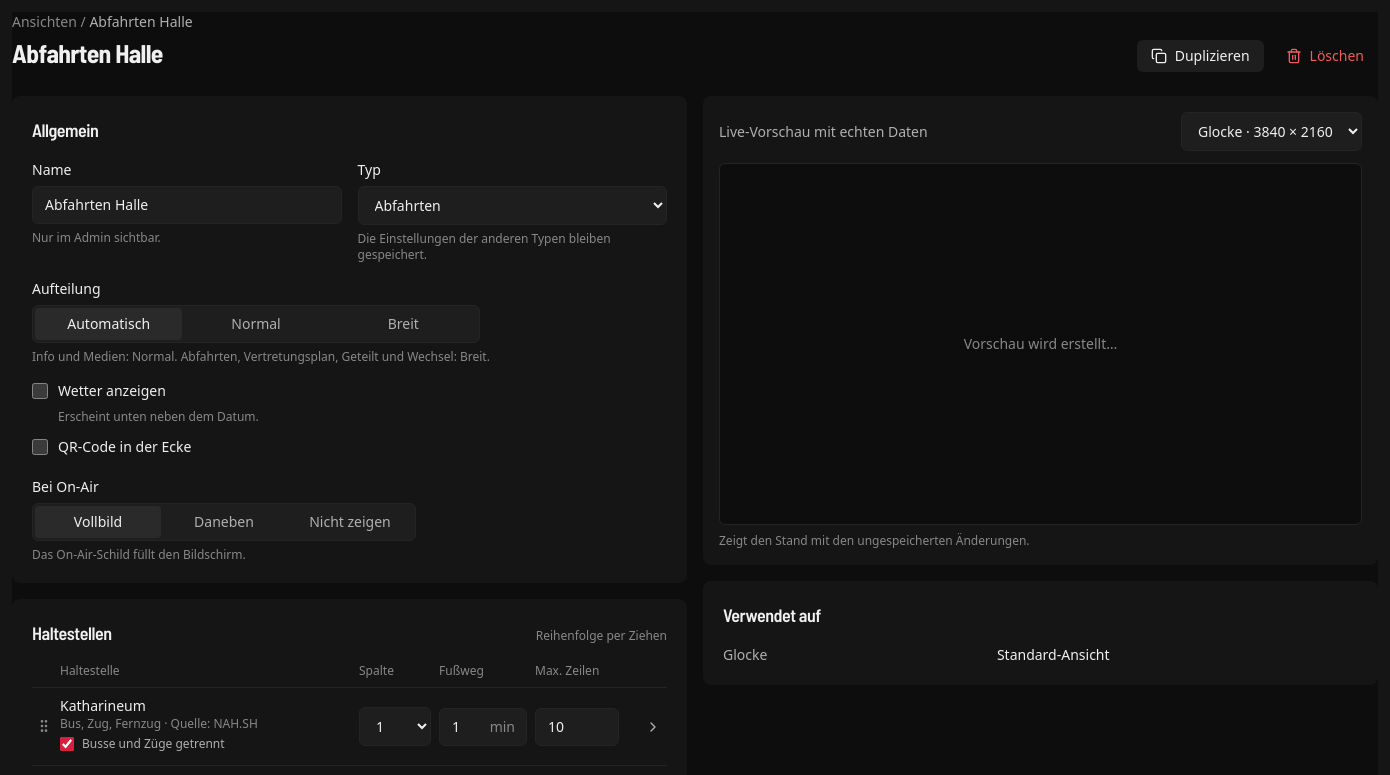
Test: ViewEdit › speichert nur das geänderte Feld und blendet die SaveBar danach aus
The image size is (1390, 775).
Click the radio button labelled "Breit".
click(403, 324)  # box [330,308,477,340]
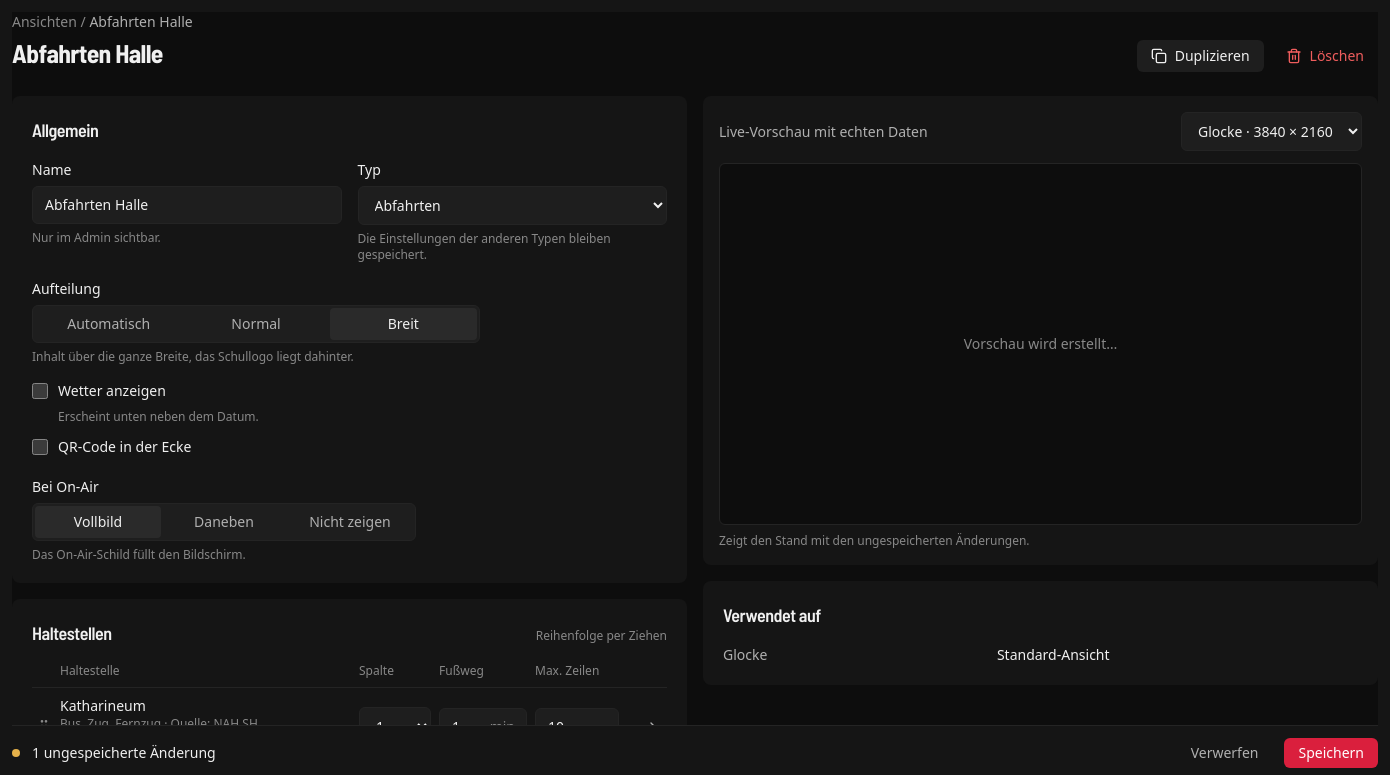
Expected: the text "1 ungespeicherte Änderung" is shown, [32,743,216,762]
Click the button "Speichern".
click(1331, 753)  # box [1284,738,1378,768]
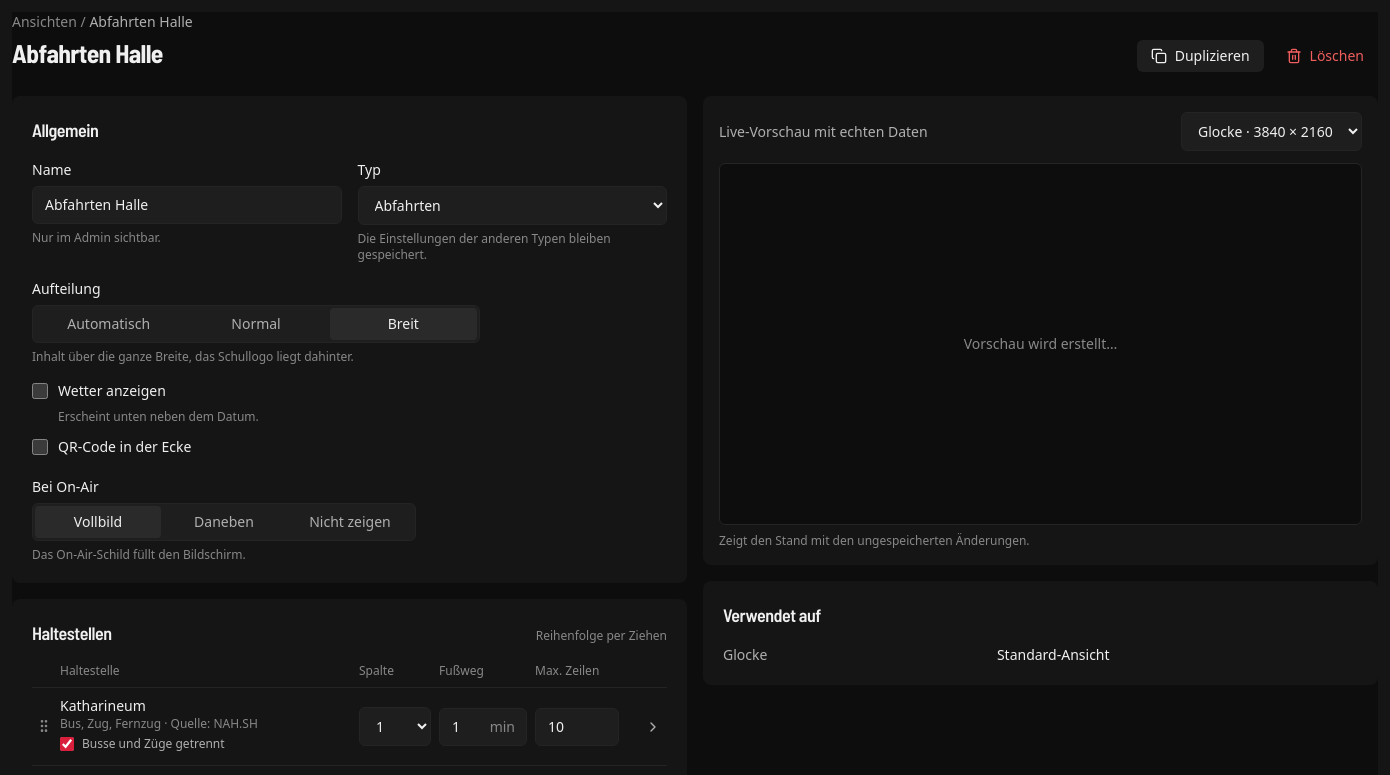
Expected: the text "ungespeicherte Änderung" is gone
